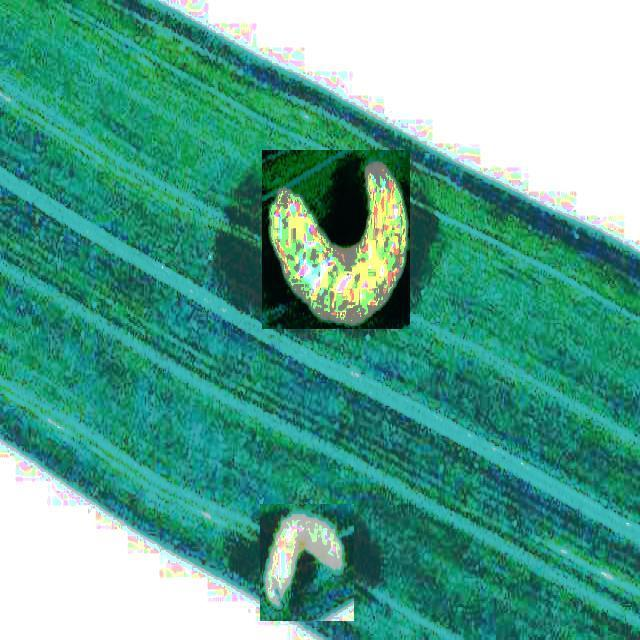whorl-maggot: (262, 150, 410, 329), (260, 504, 354, 621)
